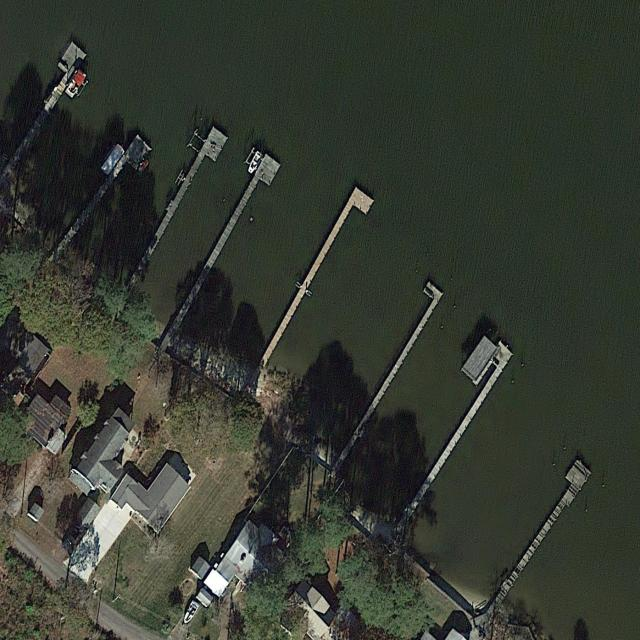ship: (63, 67, 88, 100), (180, 598, 200, 629), (245, 150, 265, 177), (138, 158, 150, 173)
